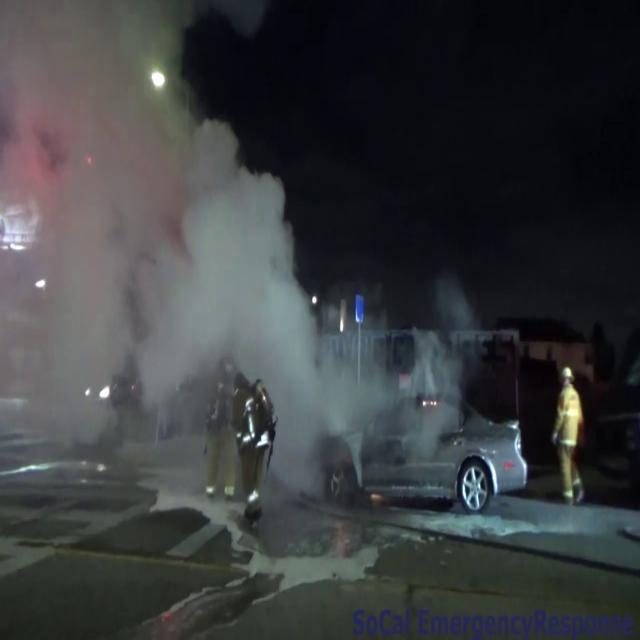Smoke: (0, 0, 391, 514)
